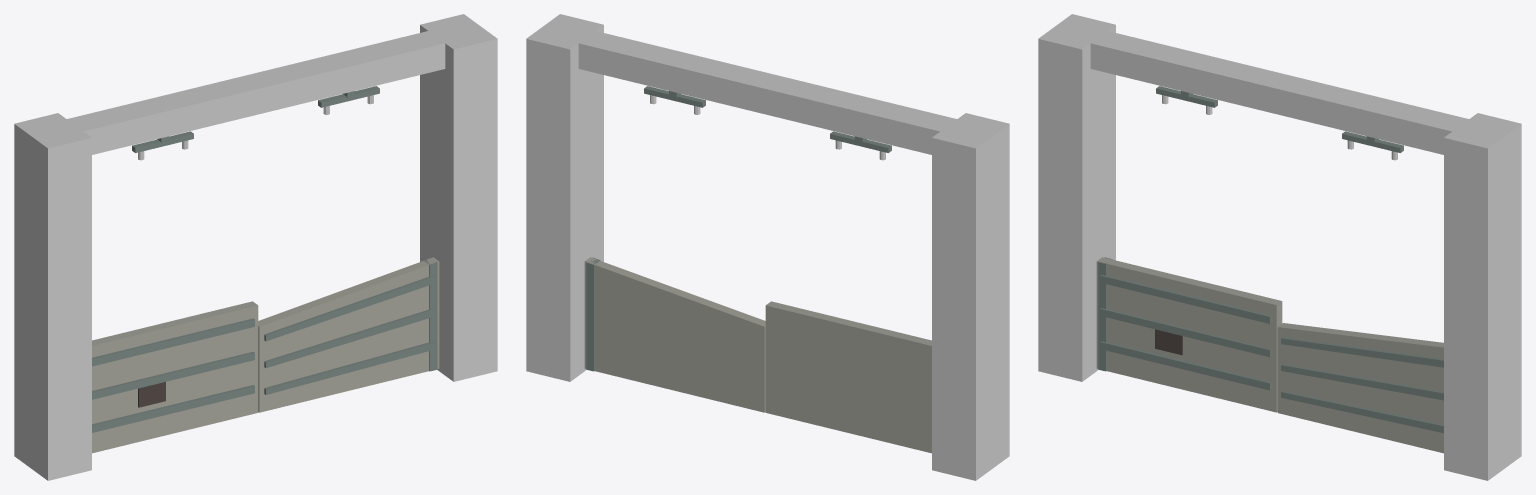
File: SM_PuertaViaDoble_v4_Blindada_e1_Danado_LOD0.fbx
The picture shows the model from 3 angles, left to right: view 1: azimuth 30°, elevation 25°; view 2: azimuth 150°, elevation 25°; view 3: azimuth 330°, elevation 25°; orthographic projection.
Visible parts, largest first — view 1: SM_puerta_via_doble_v17_LOD0, Hoja_O, Hoja_E; view 2: SM_puerta_via_doble_v17_LOD0, Hoja_O, Hoja_E; view 3: SM_puerta_via_doble_v17_LOD0, Hoja_O, Hoja_E.
Boxes of the visible parts, x1,y1,x2,y2 form: SM_puerta_via_doble_v17_LOD0: (14, 14, 497, 480); Hoja_O: (92, 301, 258, 453); Hoja_E: (258, 257, 439, 412); SM_puerta_via_doble_v17_LOD0: (526, 14, 1009, 480); Hoja_O: (765, 301, 931, 453); Hoja_E: (584, 257, 765, 412); SM_puerta_via_doble_v17_LOD0: (1038, 14, 1521, 480); Hoja_O: (1096, 257, 1282, 412); Hoja_E: (1277, 323, 1443, 453).
Size of the model in its own units: 9.2 by 6.5 by 1.2.
